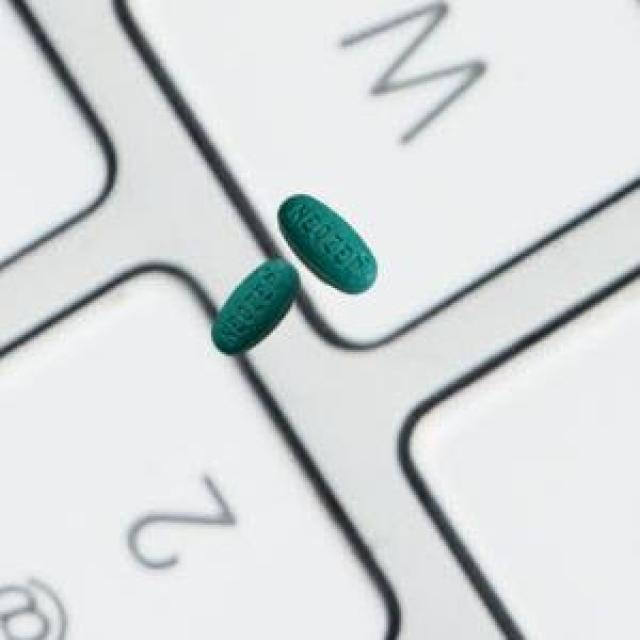Neozep: (205, 183, 385, 368)
